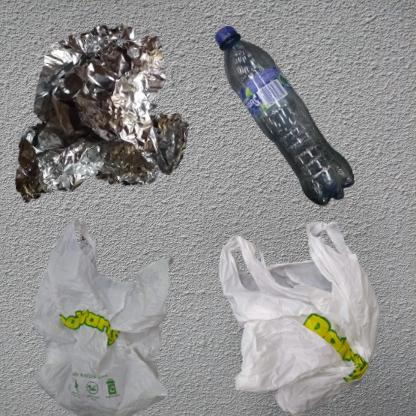aluminio: (10, 10, 207, 229)
bolsa: (10, 213, 217, 416), (213, 213, 398, 416)
botella: (213, 10, 367, 233)
